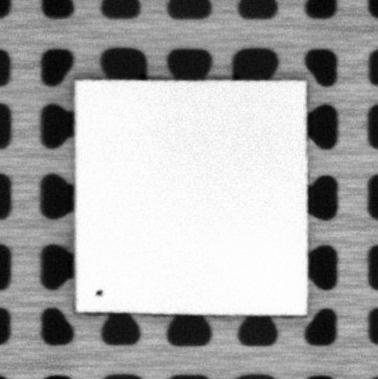DIE_INK: (94, 288, 105, 296)
